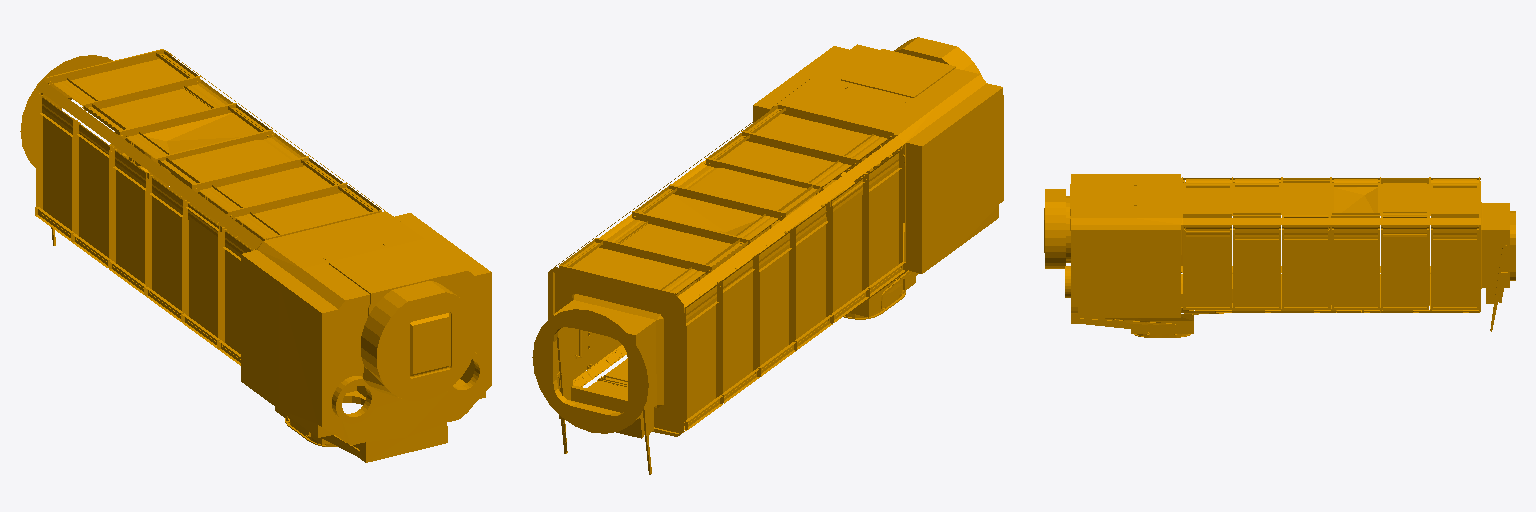
robot.urdf — iss:
<?xml version="1.0"?>

<!-- Copyright (c) 2017, United States Government, as represented by the     -->
<!-- Administrator of the National Aeronautics and Space Administration.     -->
<!--                                                                         -->
<!-- All rights reserved.                                                    -->
<!--                                                                         -->
<!-- The Astrobee platform is licensed under the Apache License, Version 2.0 -->
<!-- (the "License"); you may not use this file except in compliance with    -->
<!-- the License. You may obtain a copy of the License at                    -->
<!--                                                                         -->
<!--     http://www.apache.org/licenses/LICENSE-2.0                          -->
<!--                                                                         -->
<!-- Unless required by applicable law or agreed to in writing, software     -->
<!-- distributed under the License is distributed on an "AS IS" BASIS,       -->
<!-- WITHOUT WARRANTIES OR CONDITIONS OF ANY KIND, either express or         -->
<!-- implied. See the License for the specific language governing            -->
<!-- permissions and limitations under the License.                          -->

<robot name="iss" xmlns:xacro="http://www.ros.org/wiki/xacro">
  <link name="body">
    <inertial>
      <mass value="183353"/>
      <origin xyz="-6.03 0.31 3.59"/>
      <inertia ixx="10276978" ixy="-1084837" ixz="597098"
               iyy="31940398" iyz="-614081"  izz="40019058"/>
    </inertial>
    <!-- JPM -->
    <visual name="iss_jpm_visual">
      <origin xyz="10.9358938 -2.3364698 4.8505872" rpy="3.1415 0 -1.570796" />
      <geometry>
        <mesh filename="package://astrobee_iss/meshes/jpm.dae"/>
      </geometry>
    </visual>
    <collision name="iss_jpm_collision">
      <origin xyz="10.9358938 -2.3364698 4.8505872" rpy="3.1415 0 -1.570796" />
      <geometry>
        <mesh filename="package://astrobee_iss/meshes/jpm.dae"/>
      </geometry>
      <gazebo>
        <surface>
          <contact>
            <collide_bitmask>0x01</collide_bitmask>
          </contact>
        </surface>
      </gazebo>
    </collision>
    <!-- US Lab -->
    <visual name="iss_us_lab_visual">
      <origin xyz="6.3085472  0.0064770 4.8508920" rpy="3.1415 0 0" />
      <geometry>
        <mesh filename="package://astrobee_iss/meshes/us_lab.dae"/>
      </geometry>
    </visual>
    <collision name="iss_us_lab_collision">
      <origin xyz="6.3085472  0.0064770 4.8508920" rpy="3.1415 0 0" />
      <geometry>
        <mesh filename="package://astrobee_iss/meshes/us_lab.dae"/>
      </geometry>
      <gazebo>
        <surface>
          <contact>
            <collide_bitmask>0x01</collide_bitmask>
          </contact>
        </surface>
      </gazebo>
    </collision>
  </link>
  <gazebo>
    <static>true</static>
  </gazebo>
</robot>

--- Render facts (derived) ---
3 views of the same robot in one strip: view 1: azimuth 30°, elevation 25°; view 2: azimuth 150°, elevation 25°; view 3: azimuth 270°, elevation 25° (orthographic).
Robot: iss — 1 links, 0 joints (none); root link body; default pose: all joints at 0.
Visible links, largest first — view 1: body; view 2: body; view 3: body.
Link boxes in pixels (<box>): body: <box>20,49,491,462</box>; body: <box>532,37,1003,474</box>; body: <box>1044,174,1515,337</box>.
Bounding box of the posed robot: 2.86 × 10.17 × 3.08 m (x, y, z).
1 mesh visuals loaded from 2 distinct referenced files (1 Collada DAE); not drawn: 1 (reference not matched to a file when rendering).
